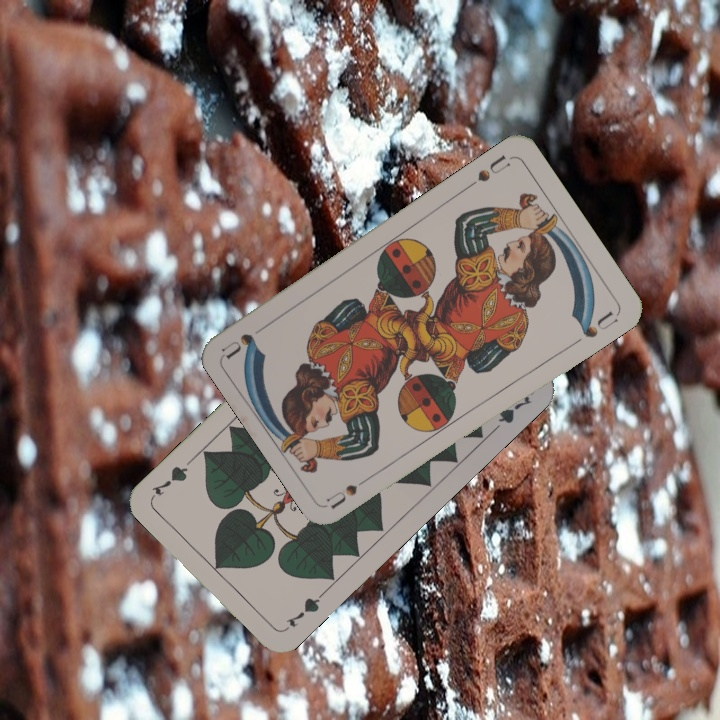G7: (278, 589, 326, 635)
SU: (323, 469, 378, 511), (462, 151, 514, 192)
